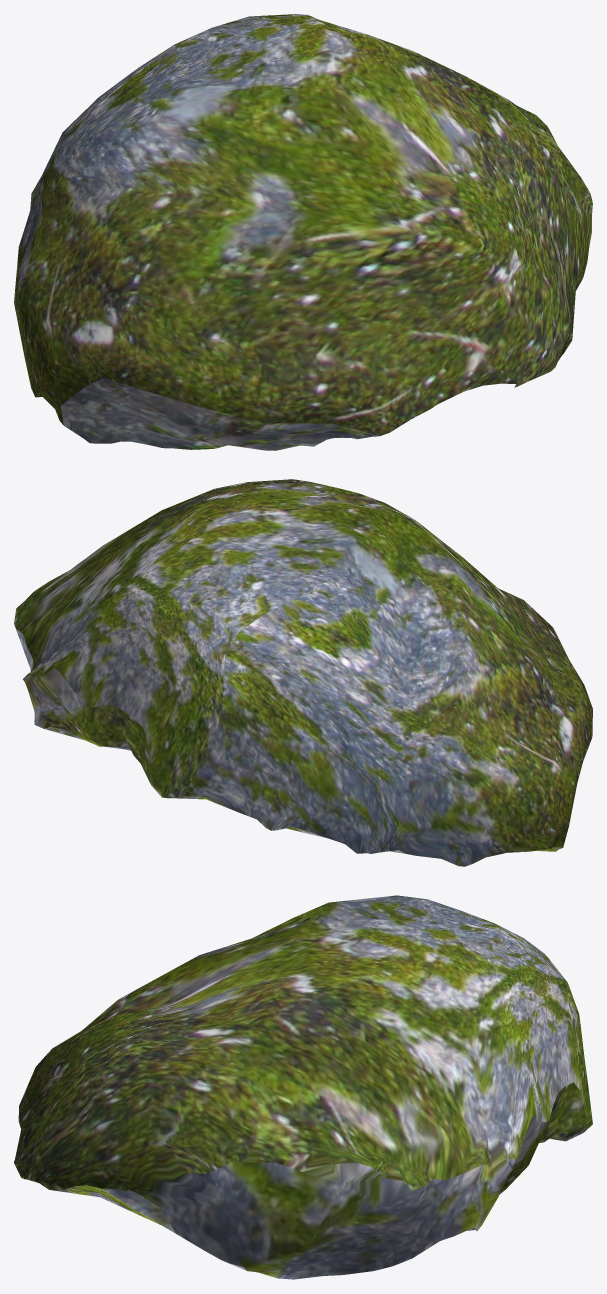
File: Rock03.fbx
The picture shows the model from 3 angles, top to bottom: view 1: azimuth 30°, elevation 25°; view 2: azimuth 150°, elevation 25°; view 3: azimuth 270°, elevation 25°; orthographic projection. The views are drawn at different scales.
Visible parts, largest first — view 1: shard4; view 2: shard4; view 3: shard4.
Part boxes in pixels (<box>): shard4: <box>14,14,592,450</box>; shard4: <box>14,479,592,866</box>; shard4: <box>14,895,592,1279</box>.
Bounding box in the file's own units: 6.53 × 3.59 × 6.24.
1 material, 1 textured.
